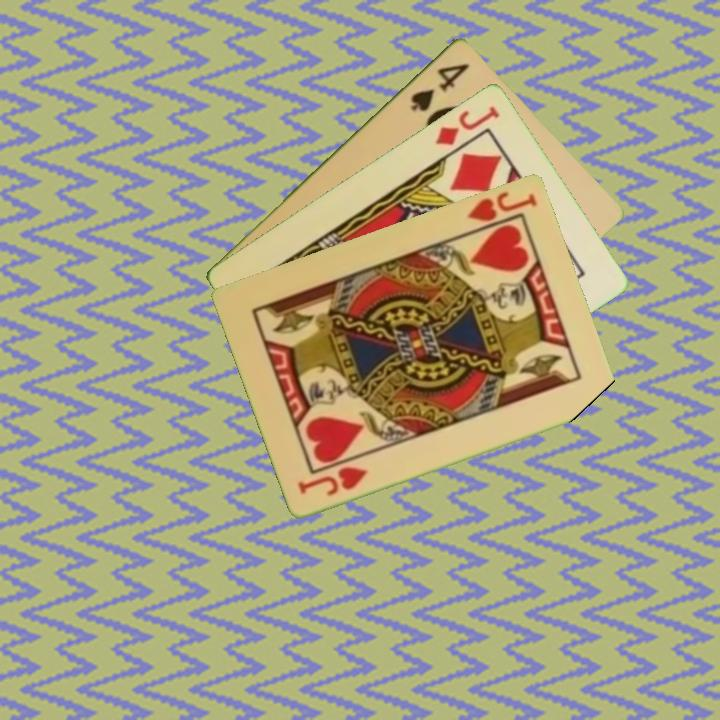4s: (406, 59, 472, 114)
Jd: (432, 101, 503, 148)
Jh: (464, 187, 540, 224), (294, 462, 371, 498)
